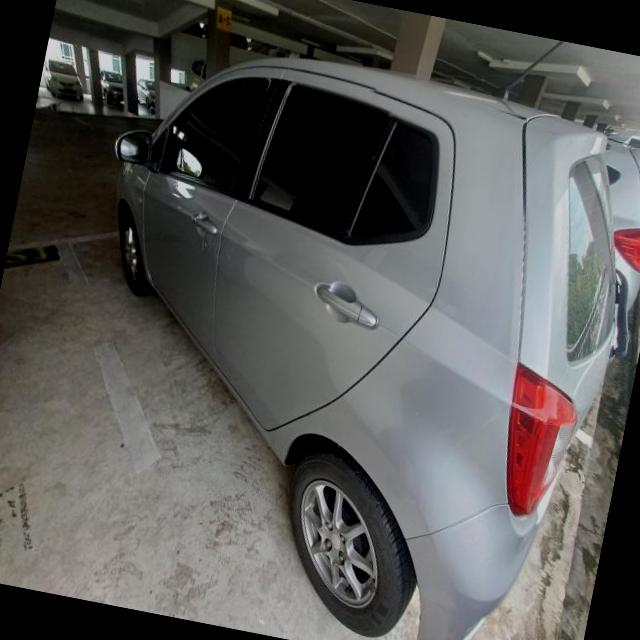PeroduaAxia: (31, 19, 640, 640)
